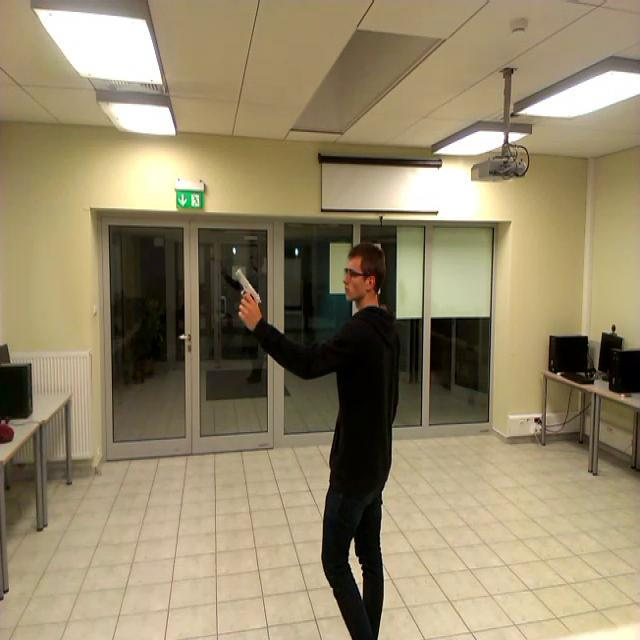Gun: (235, 267, 262, 314)
